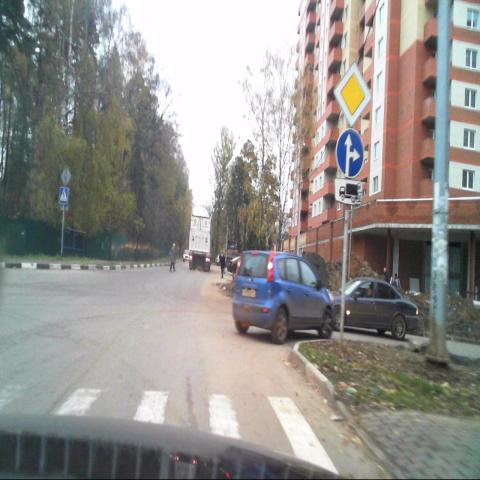2_1: (334, 63, 372, 127)
4_1_4: (335, 130, 364, 177)
5_19_1: (59, 188, 68, 204)
